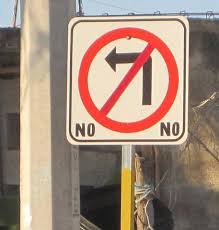No_left_turn: (78, 27, 179, 132)
